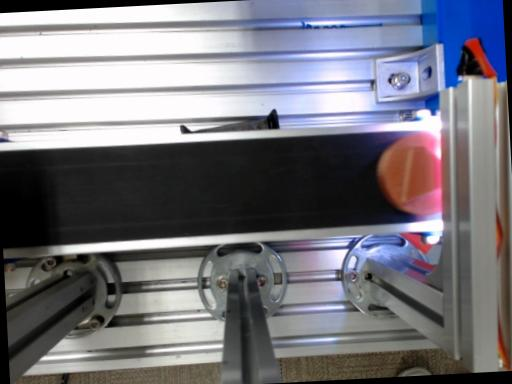Brown_Waper: (376, 132, 440, 215)
